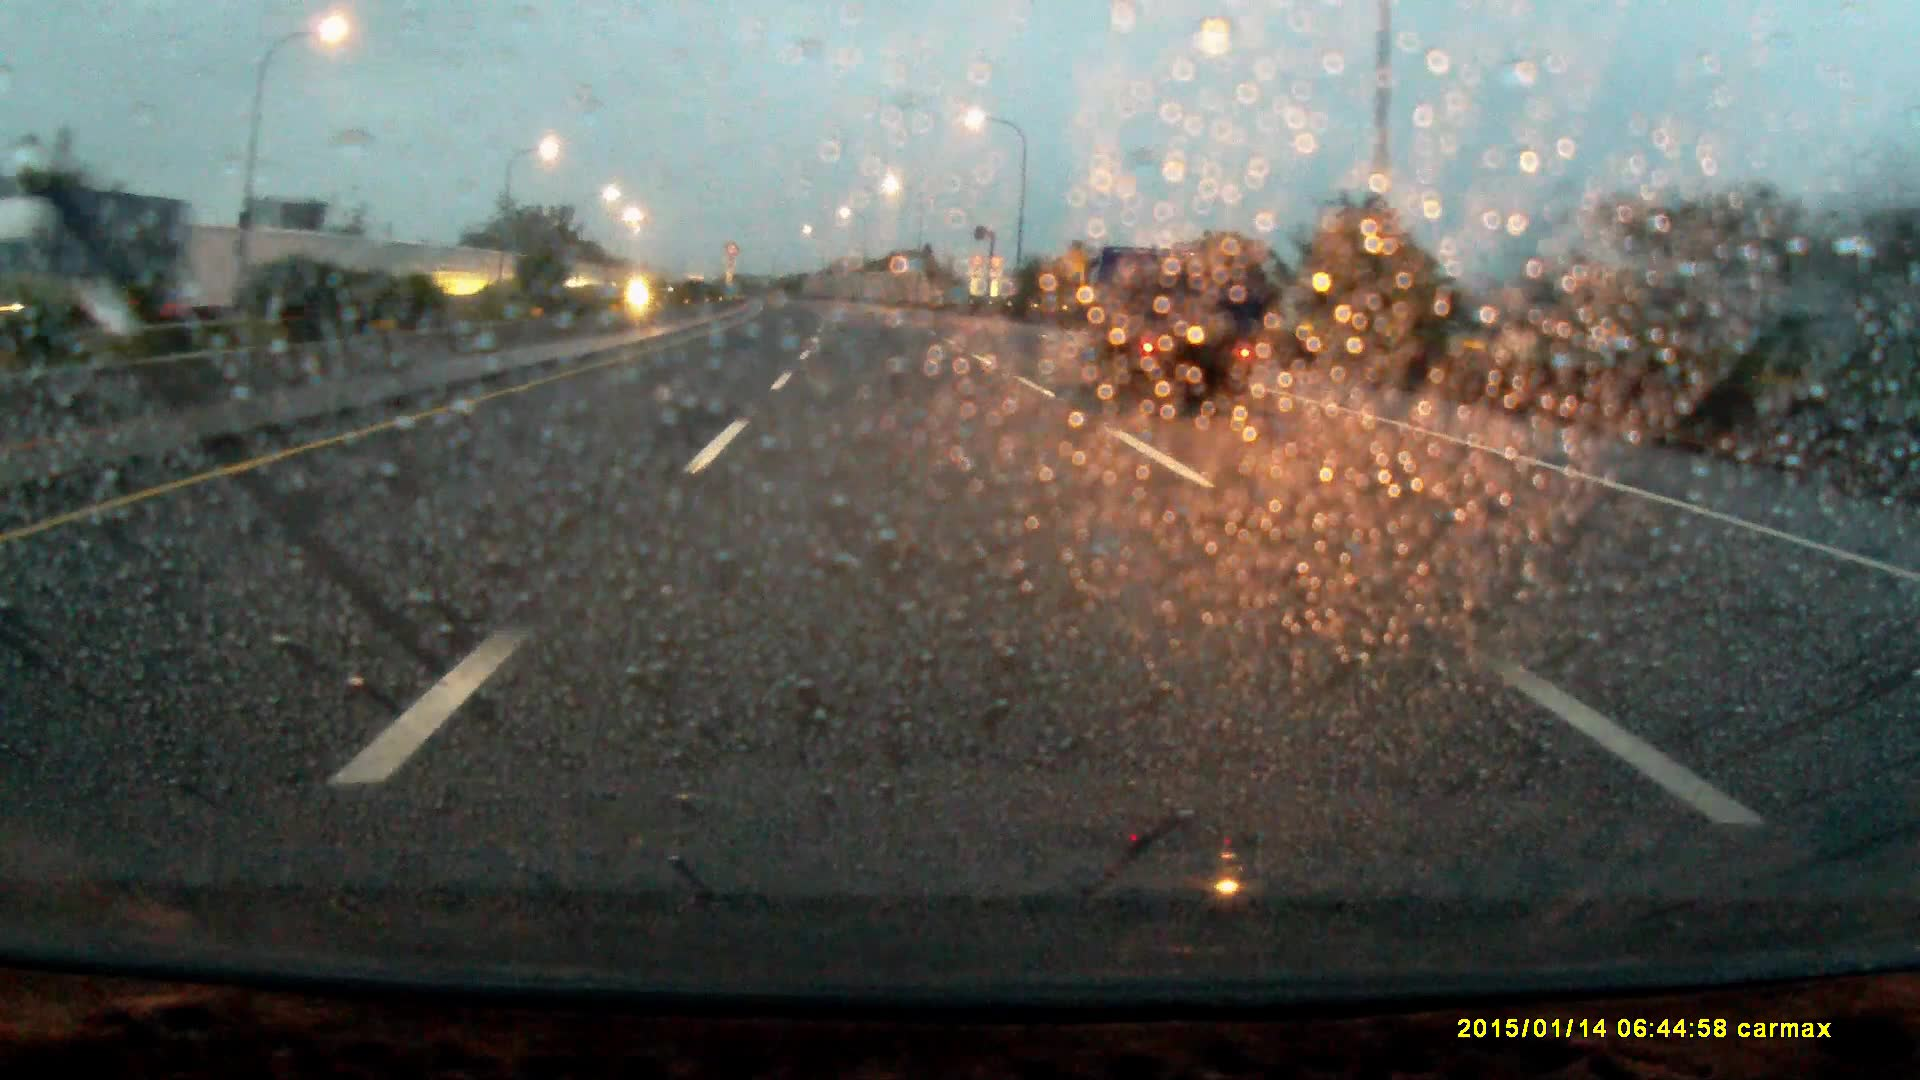vehicle: (1076, 247, 1251, 409), (37, 193, 183, 330)
